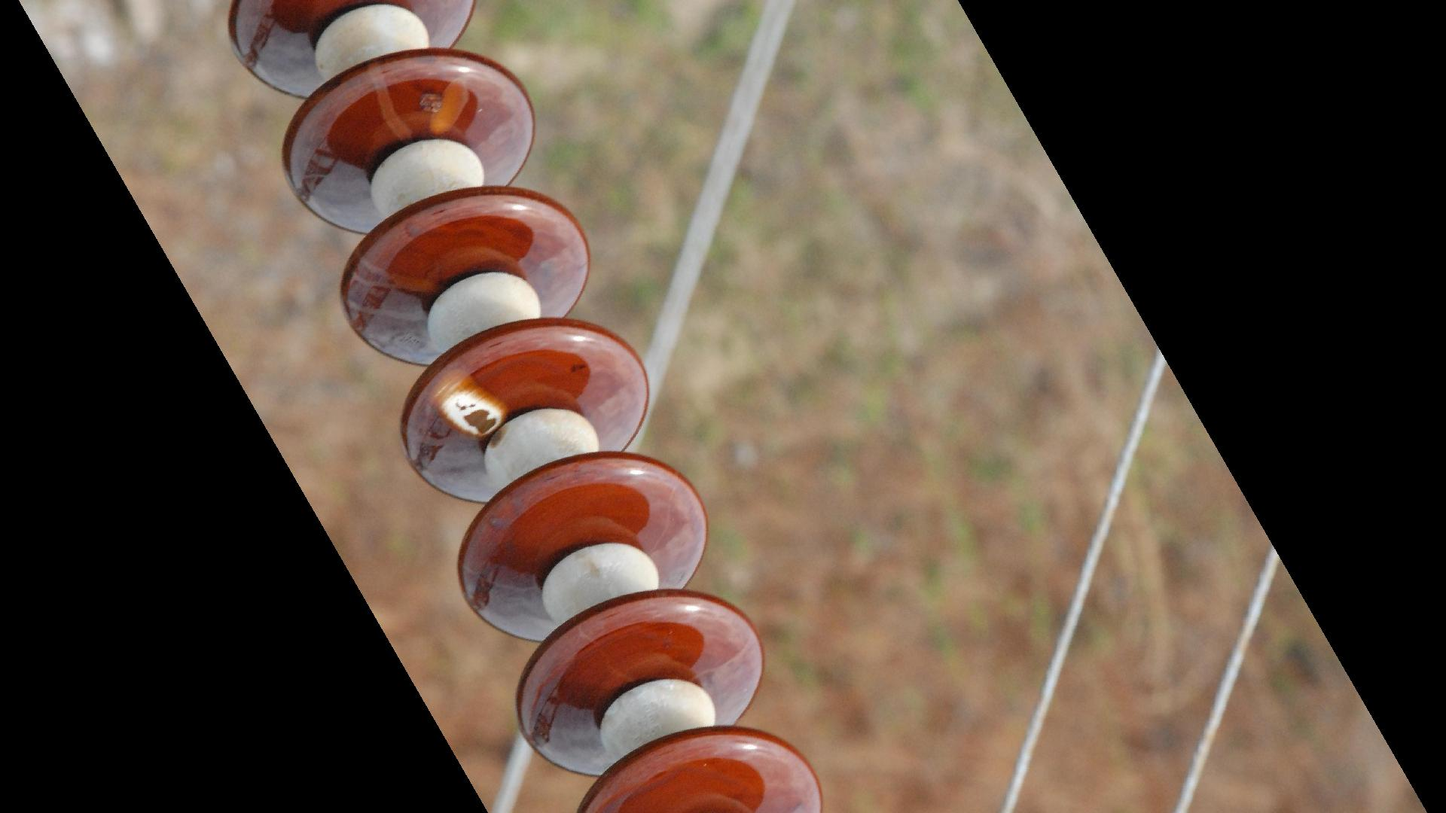insulator: (218, 1, 830, 813)
insulator_flashover: (423, 358, 509, 440), (424, 75, 473, 139)
